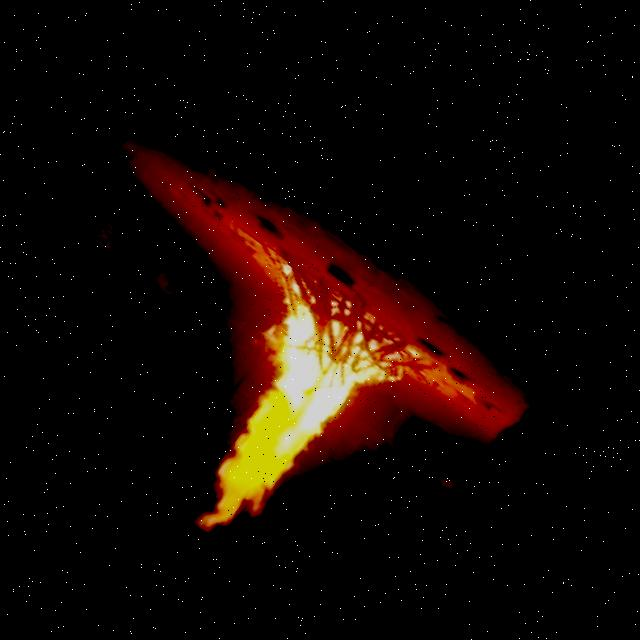Fire: (145, 301, 394, 569)
